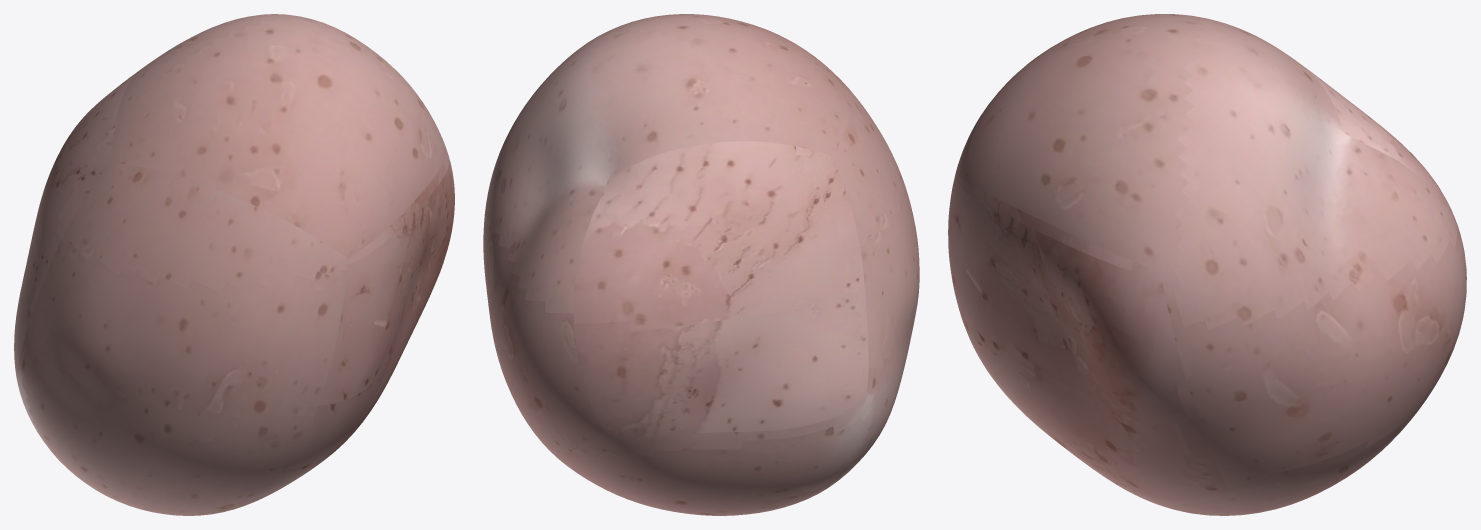
Rendered from granule-organic.glb.
3 renders of one model, left to right at view 1: azimuth 30°, elevation 25°; view 2: azimuth 150°, elevation 25°; view 3: azimuth 270°, elevation 25°, orthographic. The views are drawn at different scales.
Visible parts, largest first — view 1: mesh_magniy, mesh_sera, mesh_calciy, mesh_azot, mesh_fosfor; view 2: mesh_azot, mesh_fosfor, mesh_magniy, mesh_kaliy, mesh_sera, mesh_calciy; view 3: mesh_azot, mesh_magniy, mesh_fosfor, mesh_sera, mesh_calciy, mesh_kaliy.
Boxes of the visible parts, left/top/right/bottom form: mesh_magniy: left=56, top=18, right=449, bottom=292; mesh_sera: left=23, top=157, right=454, bottom=420; mesh_calciy: left=21, top=318, right=419, bottom=515; mesh_azot: left=32, top=14, right=344, bottom=270; mesh_fosfor: left=14, top=228, right=42, bottom=393; mesh_azot: left=485, top=28, right=858, bottom=331; mesh_fosfor: left=483, top=204, right=874, bottom=456; mesh_magniy: left=578, top=14, right=904, bottom=248; mesh_kaliy: left=528, top=408, right=874, bottom=515; mesh_sera: left=847, top=176, right=919, bottom=368; mesh_calciy: left=820, top=315, right=915, bottom=492; mesh_azot: left=1173, top=17, right=1459, bottom=329; mesh_magniy: left=955, top=14, right=1206, bottom=271; mesh_fosfor: left=1175, top=226, right=1466, bottom=475; mesh_sera: left=948, top=170, right=1188, bottom=423; mesh_calciy: left=961, top=318, right=1197, bottom=514; mesh_kaliy: left=1178, top=408, right=1419, bottom=515.
Size of the model in its own units: 2.73 by 3.03 by 2.9.
Materials: 1 (1 with a texture image).
